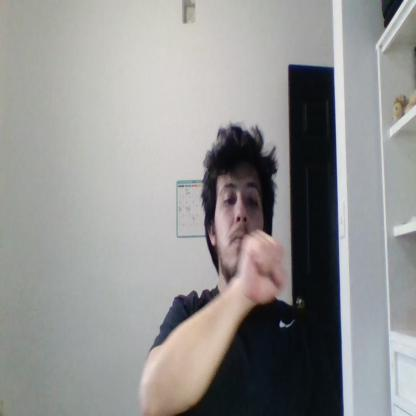S: (240, 227, 287, 304)
